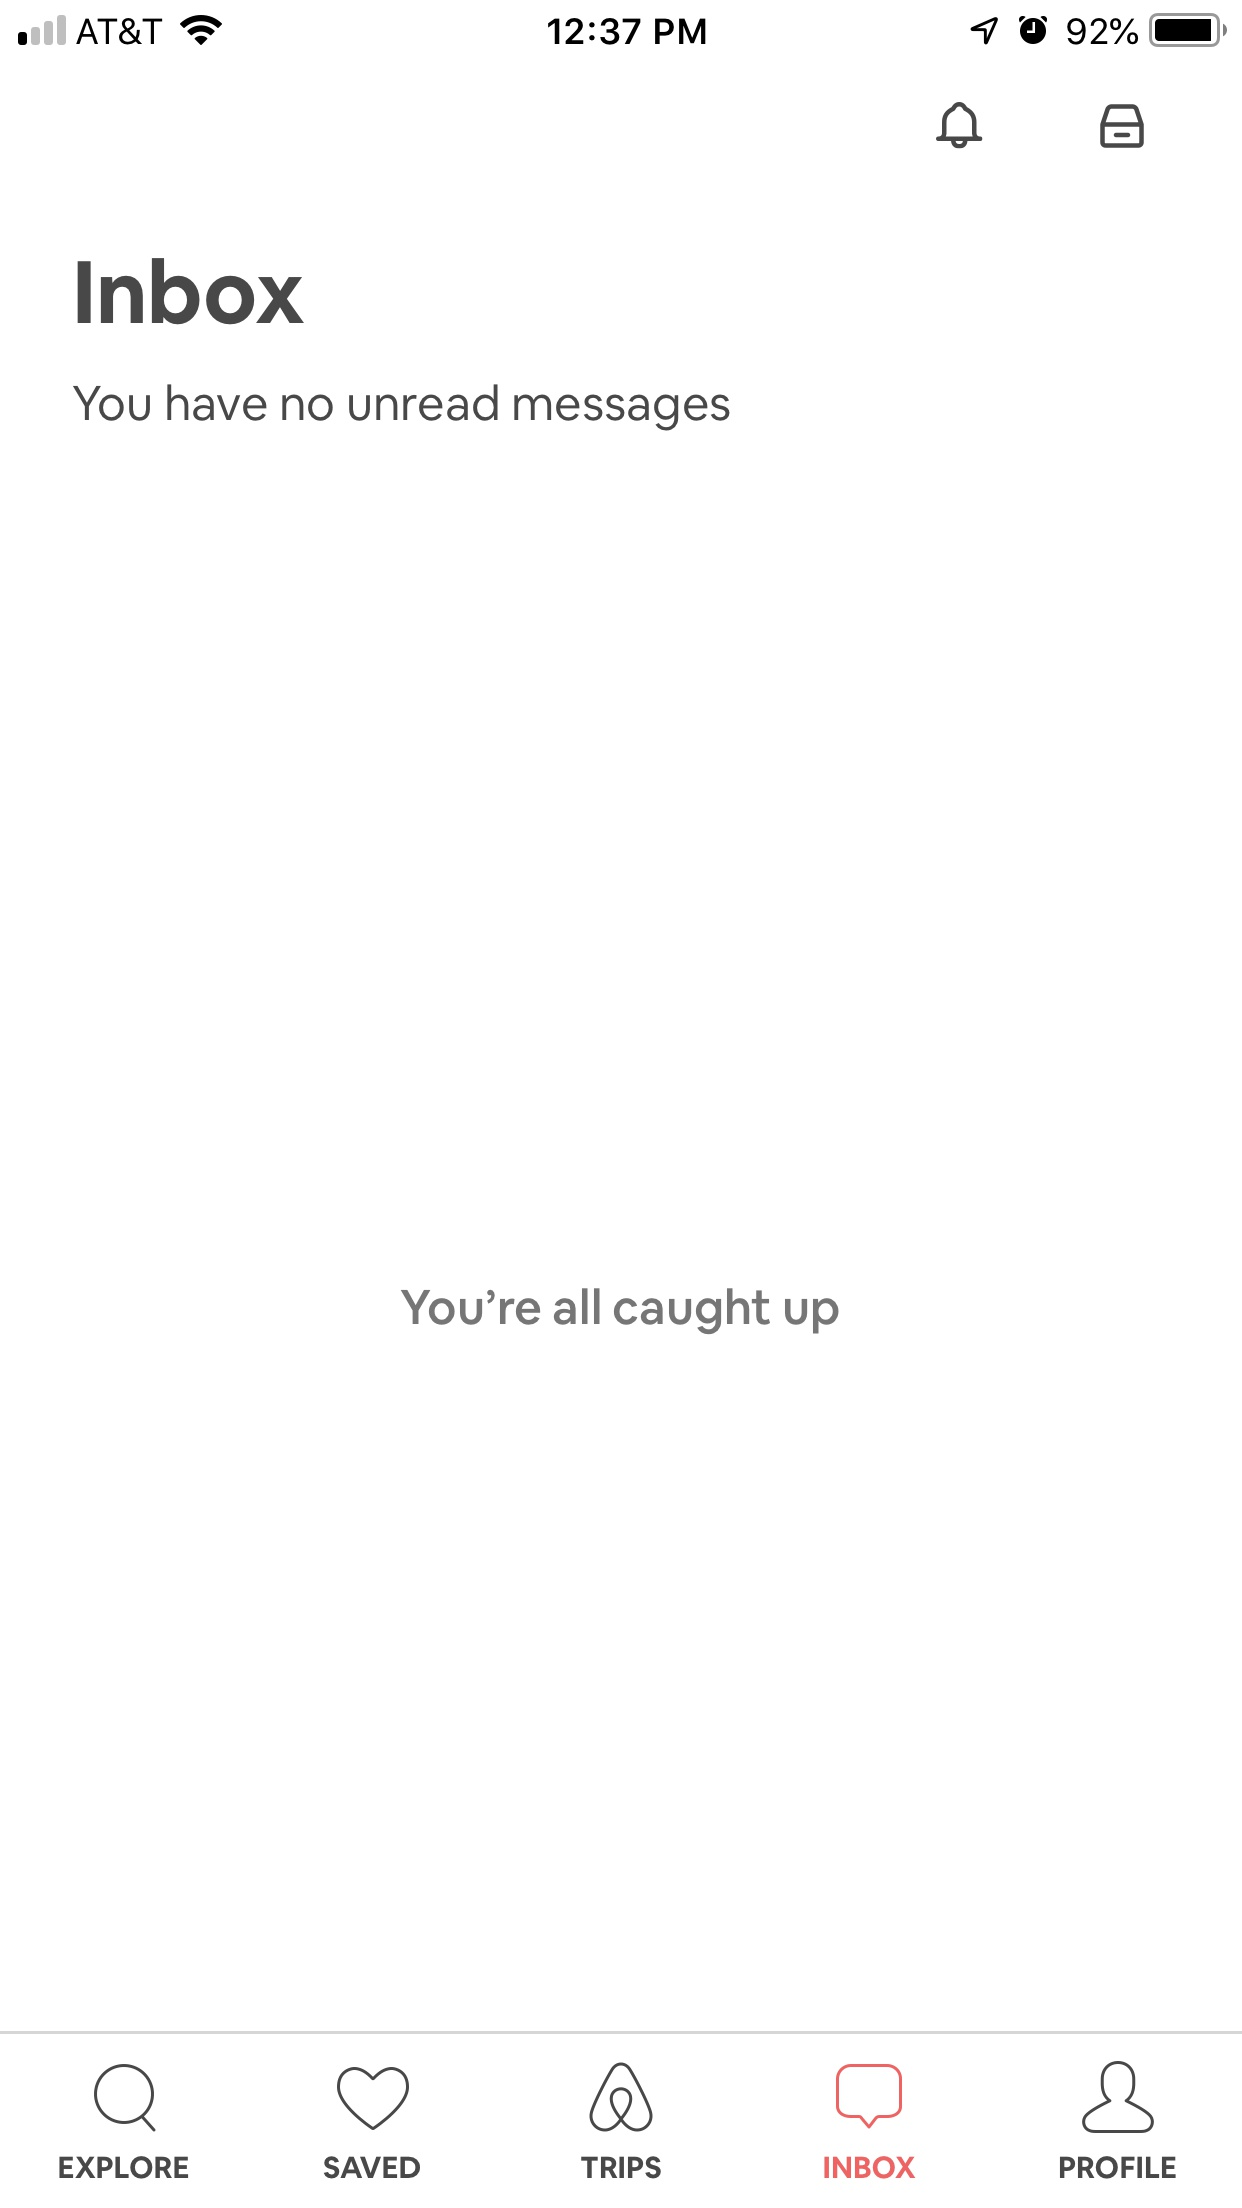Icon: (1081, 2059, 1156, 2134), (337, 2065, 409, 2131), (836, 2062, 902, 2131), (94, 2062, 158, 2134), (936, 102, 983, 150)
Image: (588, 2061, 654, 2132), (1099, 105, 1145, 150)
Text: (73, 384, 731, 432), (400, 1287, 840, 1335), (77, 258, 305, 326), (61, 2155, 190, 2179), (1060, 2153, 1177, 2179), (323, 2155, 422, 2179), (823, 2155, 916, 2179), (579, 2155, 663, 2179)
UpperTaskBar: (2, 2, 1242, 49)
